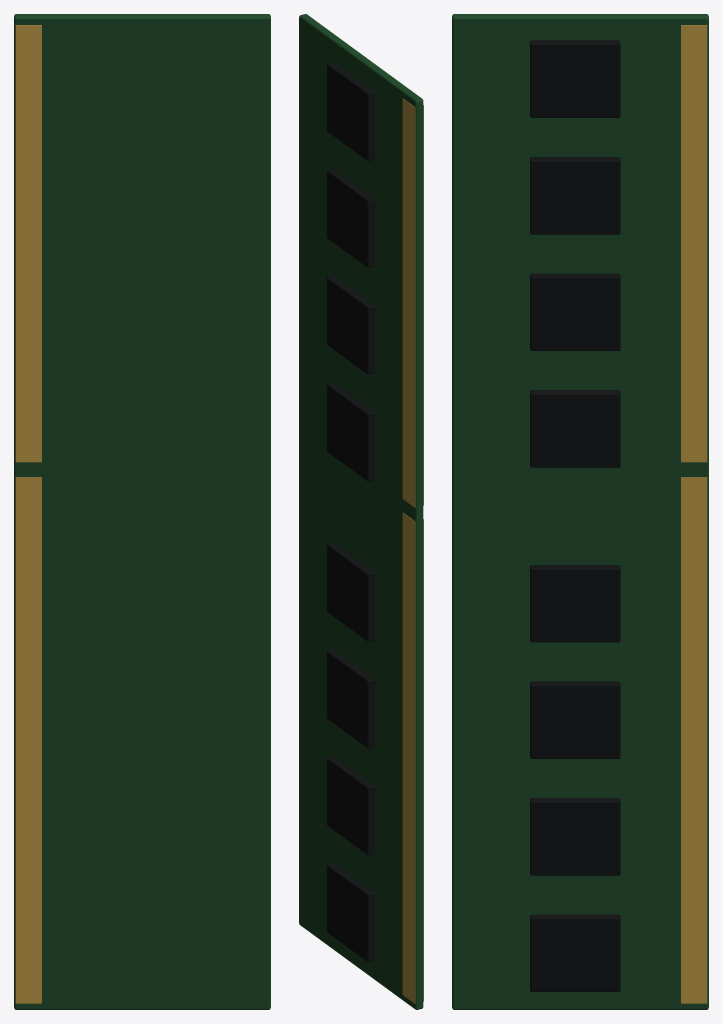
Rendered from 7ffcbe4d-37da-4ad7-b769-d8b98e7e6d97.glb.
The picture shows the model from 3 angles, left to right: view 1: azimuth 90°, elevation 25°; view 2: azimuth 210°, elevation 25°; view 3: azimuth 270°, elevation 25°; orthographic projection. The views are drawn at different scales.
Visible parts, largest first — view 1: RAM_PCB, RAM_Contacts; view 2: RAM_PCB, RAM_Contacts, RAM_Chip_03, RAM_Chip_05, RAM_Chip_07, RAM_Chip_08, RAM_Chip_01, RAM_Chip_02, RAM_Chip_04, RAM_Chip_06; view 3: RAM_PCB, RAM_Contacts, RAM_Chip_06, RAM_Chip_01, RAM_Chip_02, RAM_Chip_03, RAM_Chip_04, RAM_Chip_05, RAM_Chip_07, RAM_Chip_08.
Part boxes in pixels (x1,y1,x2,y2): RAM_PCB: (14, 14, 270, 1009); RAM_Contacts: (15, 25, 41, 1003); RAM_PCB: (299, 14, 423, 1009); RAM_Contacts: (402, 98, 423, 1003); RAM_Chip_03: (326, 649, 374, 748); RAM_Chip_05: (326, 382, 374, 481); RAM_Chip_07: (326, 169, 374, 267); RAM_Chip_08: (326, 62, 374, 161); RAM_Chip_01: (326, 863, 374, 962); RAM_Chip_02: (326, 756, 374, 855); RAM_Chip_04: (326, 543, 374, 641); RAM_Chip_06: (326, 276, 374, 374); RAM_PCB: (452, 14, 708, 1009); RAM_Contacts: (681, 25, 707, 1003); RAM_Chip_06: (530, 273, 620, 350); RAM_Chip_01: (530, 914, 620, 991); RAM_Chip_02: (530, 798, 620, 875); RAM_Chip_03: (530, 681, 620, 758); RAM_Chip_04: (530, 565, 620, 642); RAM_Chip_05: (530, 390, 620, 467); RAM_Chip_07: (530, 157, 620, 234); RAM_Chip_08: (530, 40, 620, 117).
Bounding box in the file's own units: 0.00253 × 0.1334 × 0.0312.
